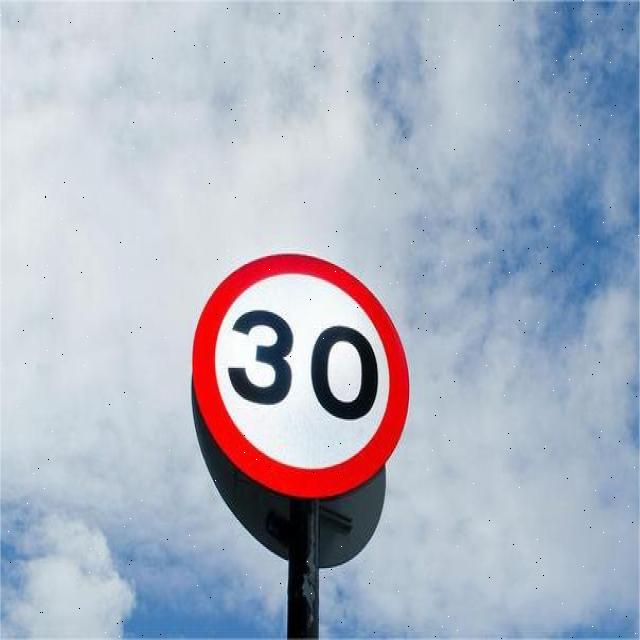speed limit 30: (193, 249, 412, 500)
